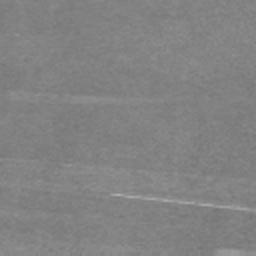Finishing roll printing: (0, 157, 256, 188), (110, 193, 256, 214), (8, 91, 183, 105)
